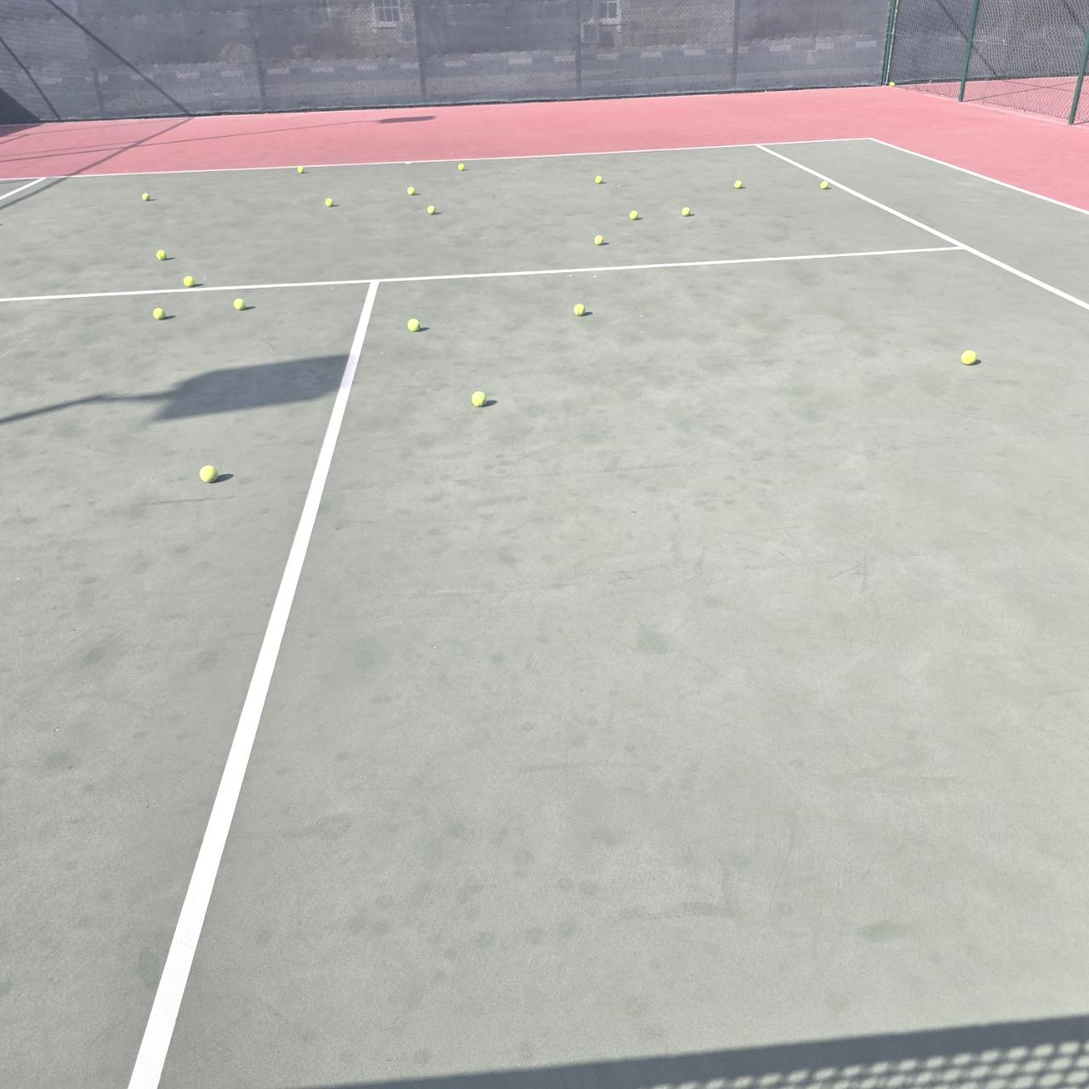tennis-ball: (200, 463, 219, 482), (471, 389, 487, 406), (962, 350, 978, 365), (573, 301, 586, 316), (408, 317, 421, 331), (594, 232, 607, 246), (153, 307, 166, 319), (234, 298, 247, 310), (183, 275, 194, 287), (156, 249, 167, 261), (681, 207, 691, 217), (734, 179, 743, 189), (629, 210, 638, 220), (427, 205, 436, 215), (820, 181, 829, 190), (594, 175, 603, 184), (325, 198, 333, 207), (142, 193, 150, 201), (407, 187, 415, 195), (297, 166, 305, 174), (458, 163, 465, 171), (889, 81, 895, 87)
